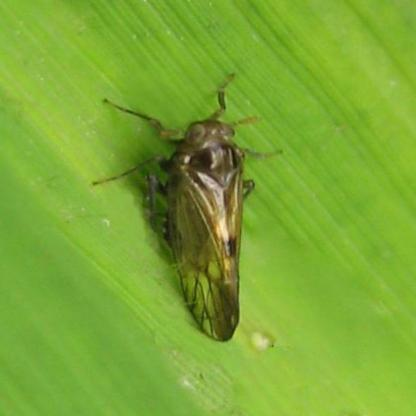brown-planthopper: (158, 116, 252, 346)
